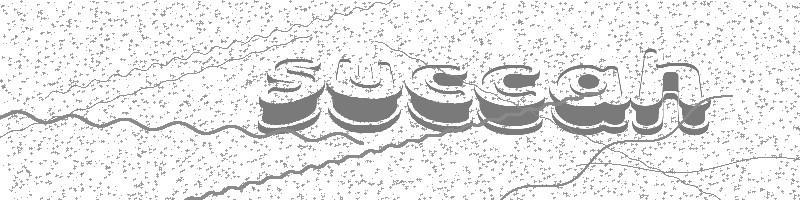a: (549, 65, 630, 135)
c: (475, 65, 546, 135), (405, 64, 474, 133)
h: (631, 49, 711, 135)
s: (258, 59, 325, 135)
u: (327, 58, 403, 133)
